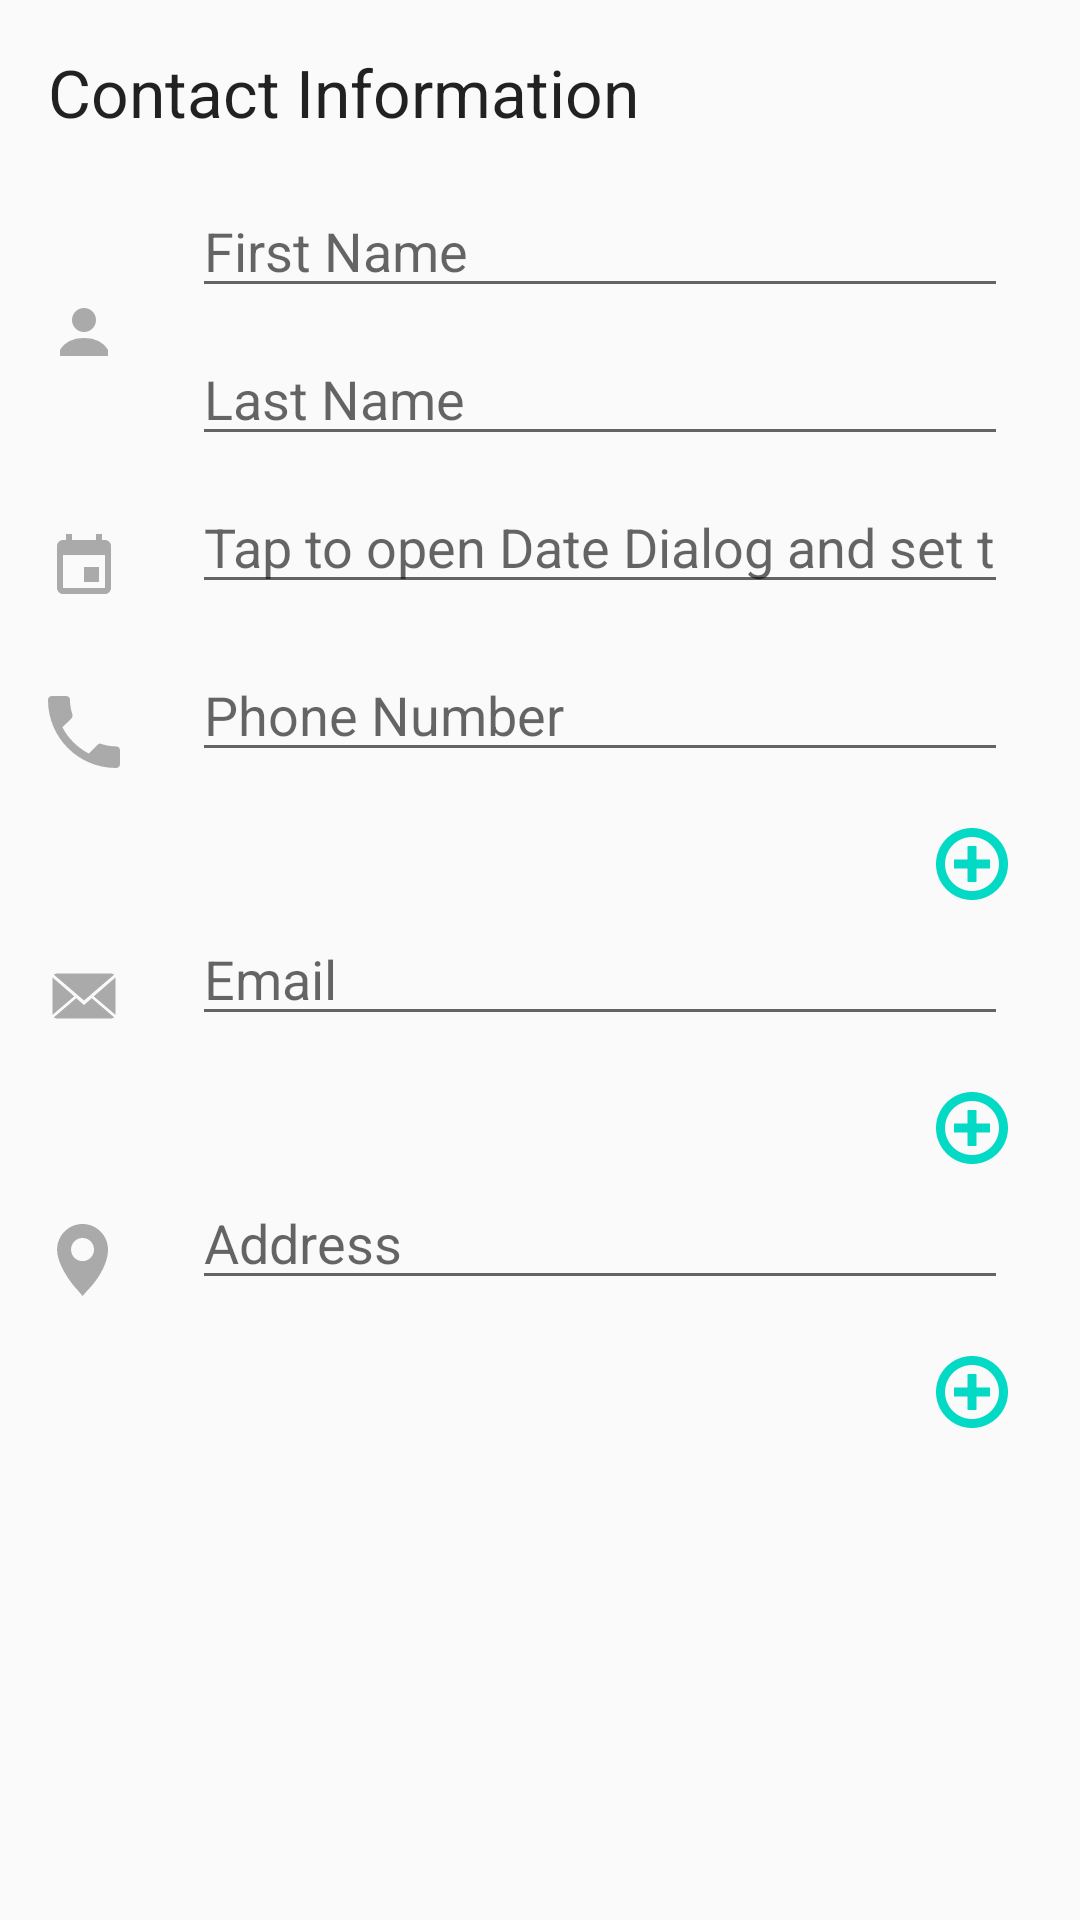

Locate icon controls on the screen. Image size 1080 x 1920, boxes as [x1, y1, x2, y2].
calendar contacts: [57, 534, 111, 594]
mail contacts: [52, 973, 116, 1019]
map pin: [57, 1224, 108, 1296]
person: [60, 308, 108, 356]
phone contacts: [48, 696, 120, 768]
